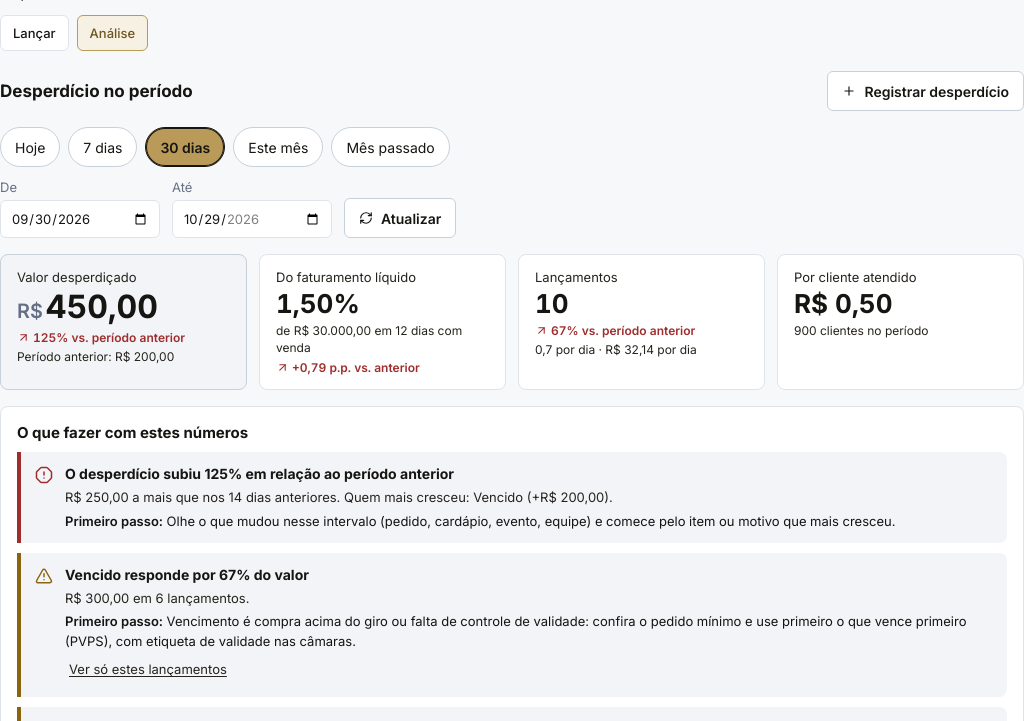
Test case: Análise: indicadores e leitura › 'Ver só estes lançamentos' recorta a lista e mostra o recorte com opção de remover
Click the button "Ver só estes lançamentos" at {"x": 148, "y": 669}, box [65,653,231,685]
(page scrolled)
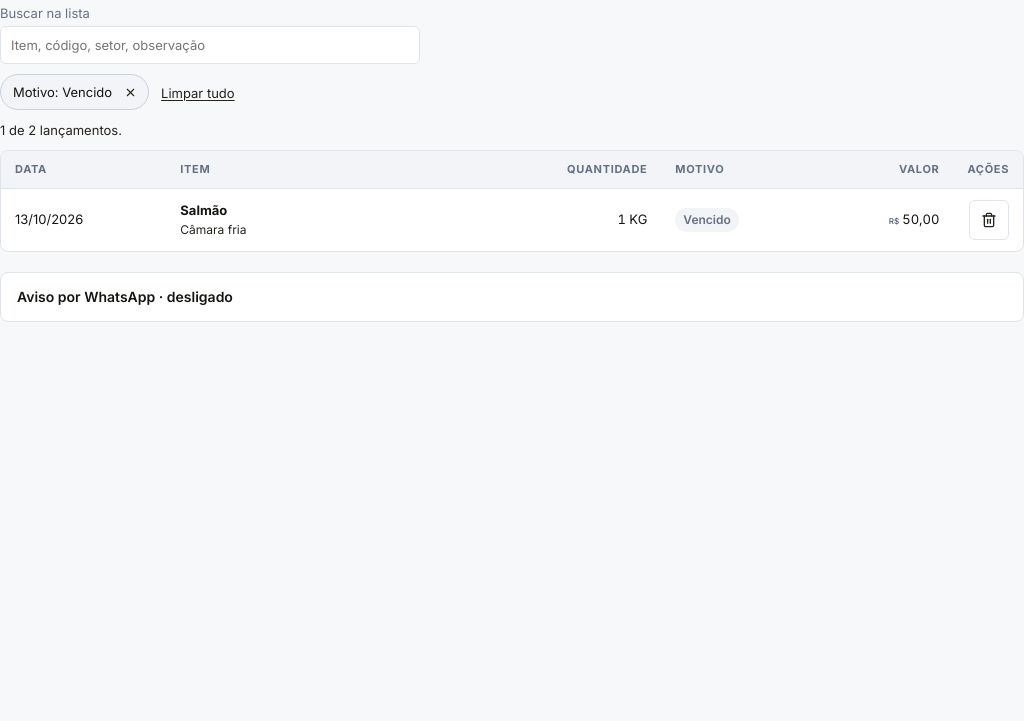
Expected: the text "Tomate" is not shown
Expected: the text "1 de 2 lançamentos." is shown, [0,122,122,138]
Expected: the text "Motivo: Vencido" is shown, [0,74,149,110]
Click the button named "Remover recorte Motivo: Vencido" at {"x": 130, "y": 92}, box [114,76,146,108]
(page scrolled)
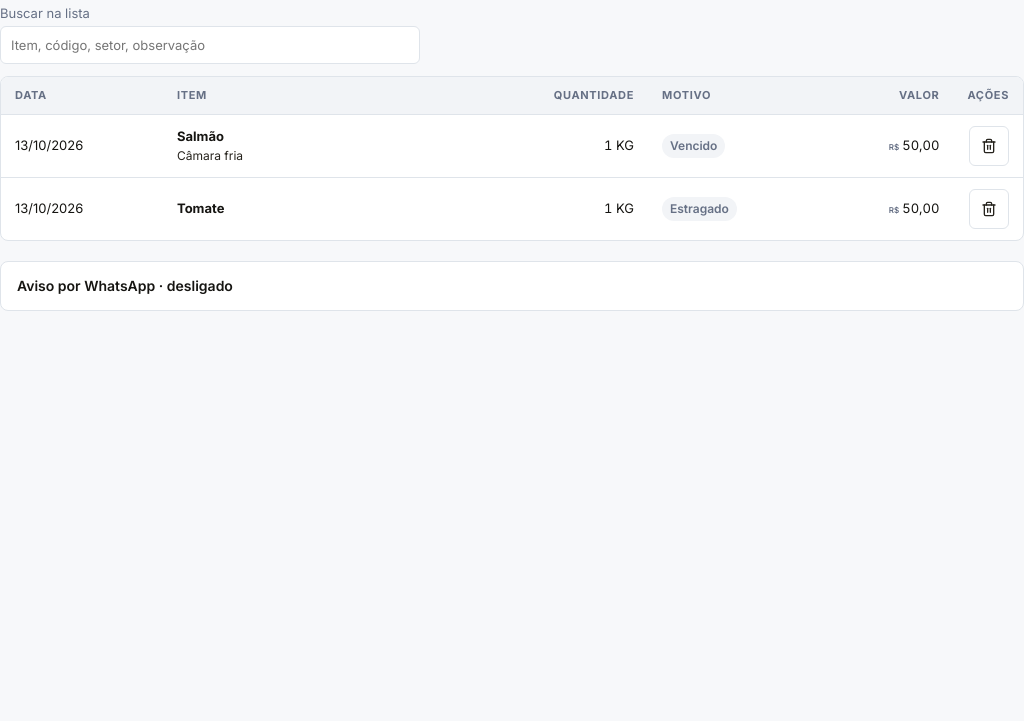
Expected: the text "Tomate" is shown, [177,200,224,216]
